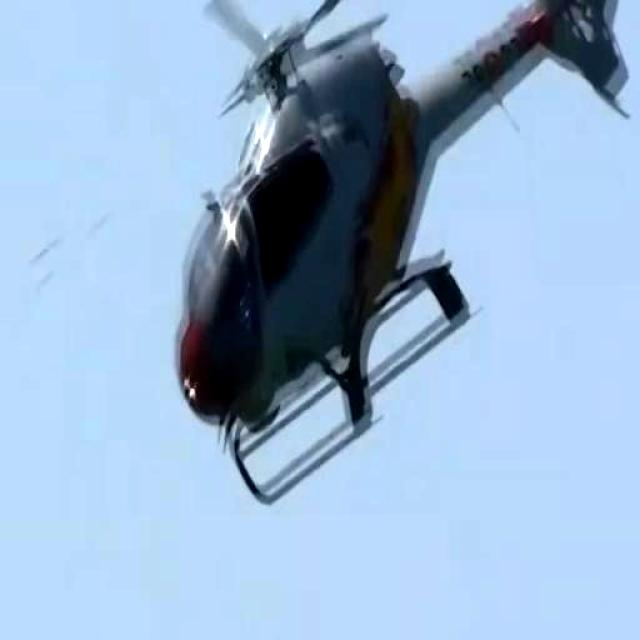drone: (34, 0, 632, 504)
